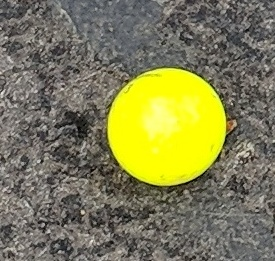ball: (107, 68, 227, 187)
